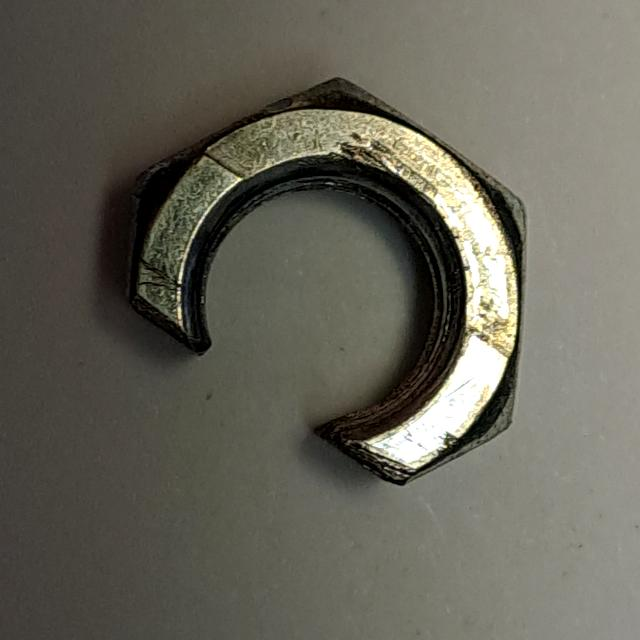Fracture: (104, 55, 566, 498)
